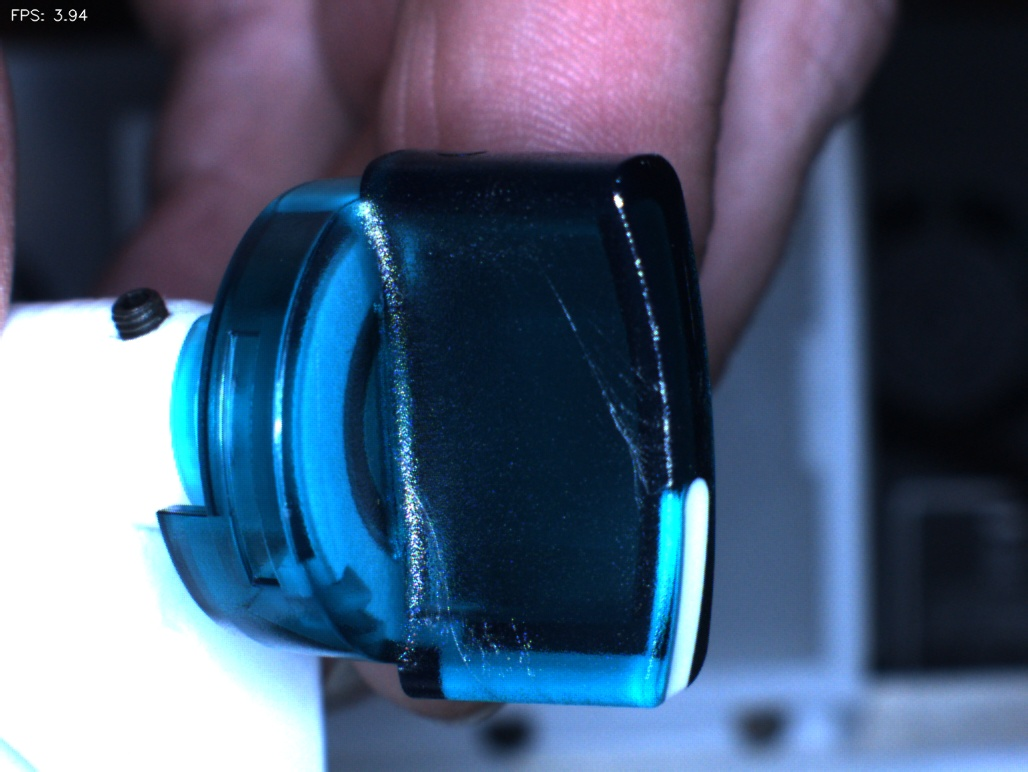Givrage: (554, 299, 660, 490)
